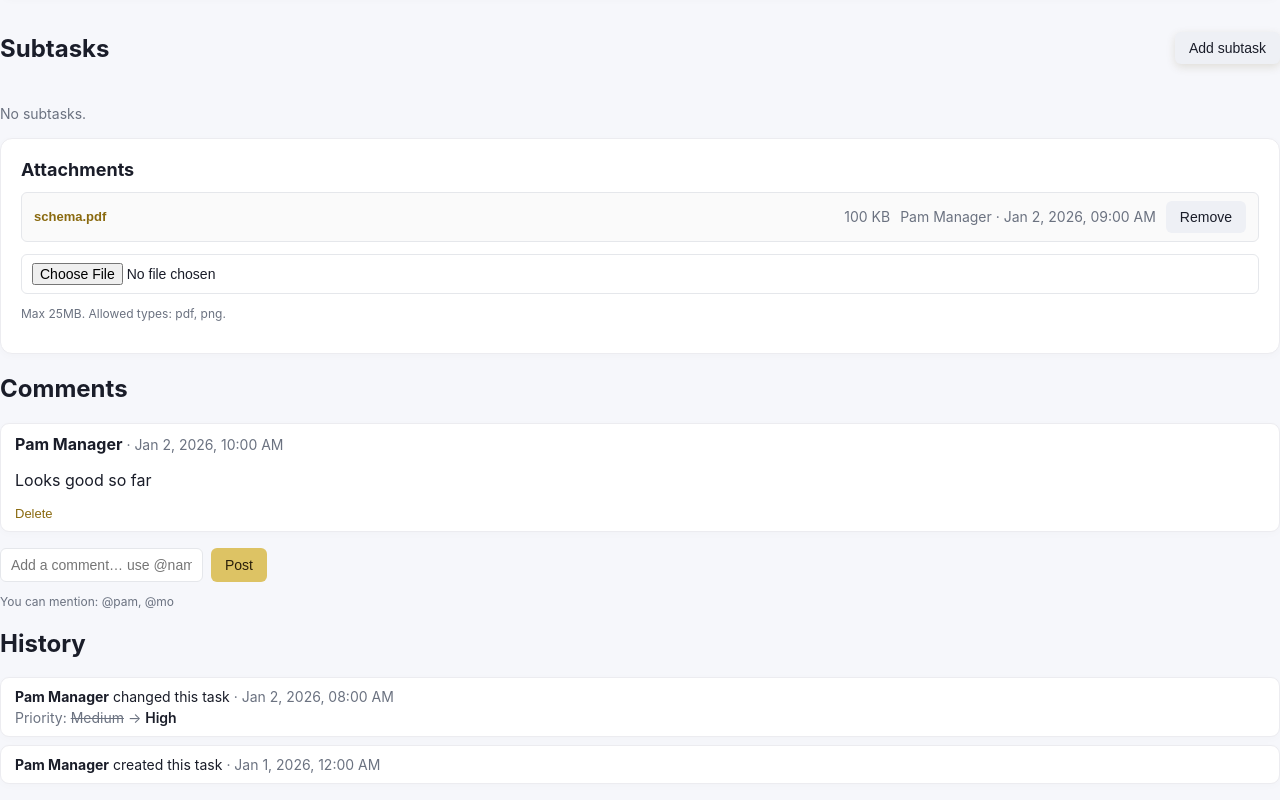
Test case: TaskDetail page › posts a new comment and shows it immediately
This screenshot has width=1280, height=800.
(page scrolled)
Type "New comment here" into the field with placeholder "Add a comment… use @name to mention someone" at (102, 565), box x1=0 y1=548 x2=203 y2=582
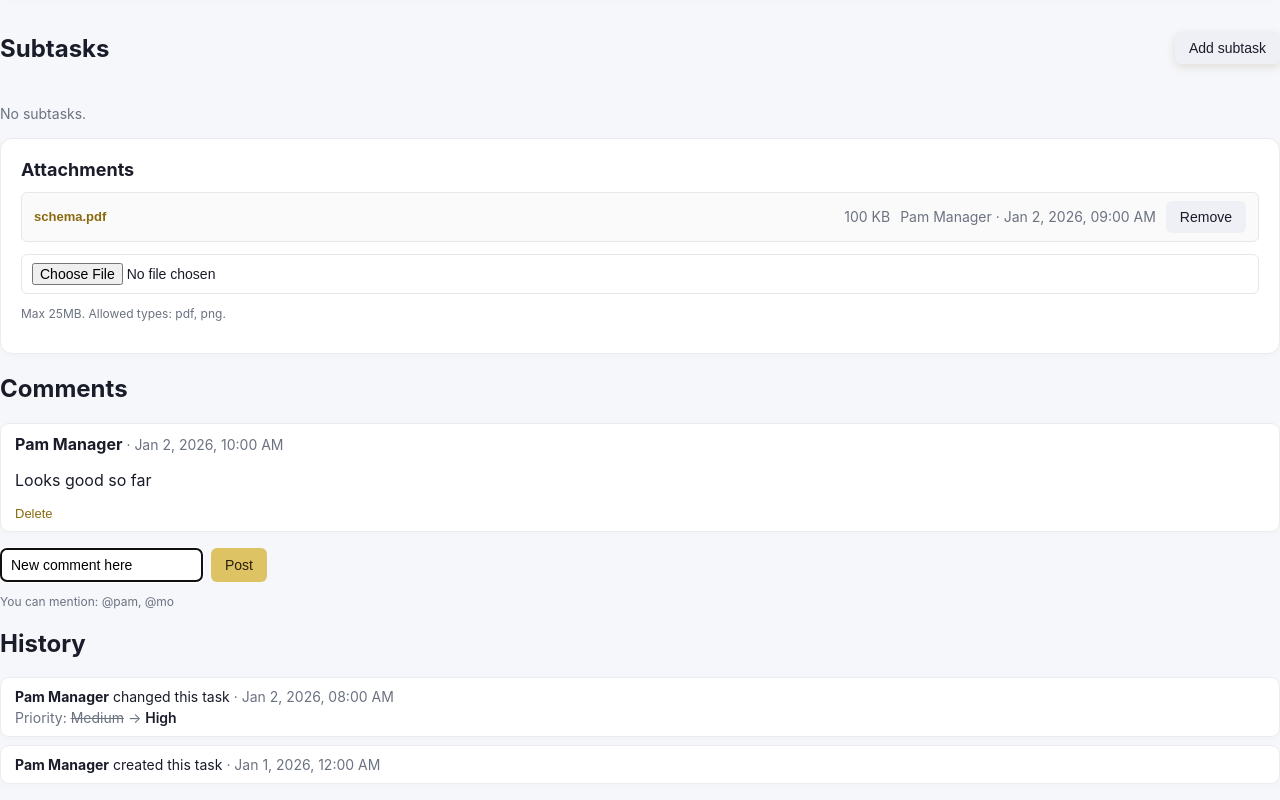
Click the button "Post" at (239, 565), box x1=211 y1=548 x2=267 y2=582
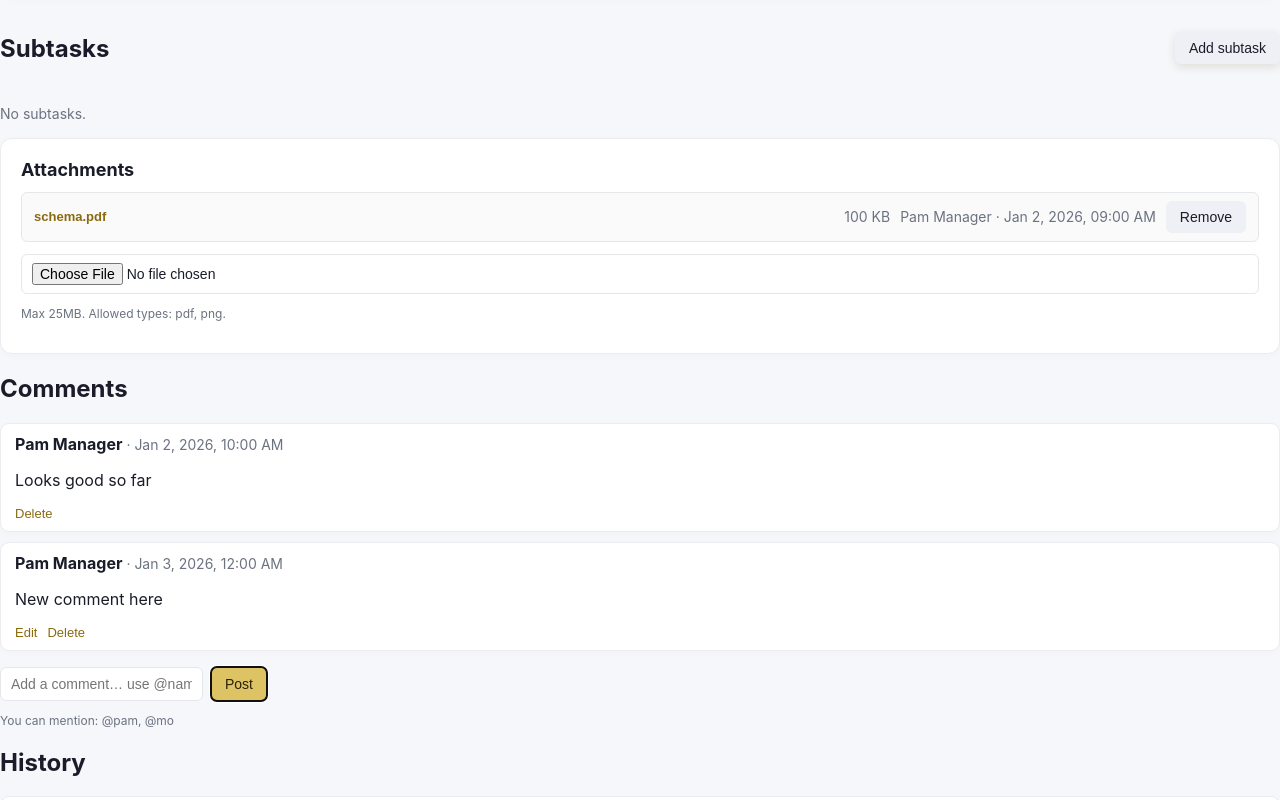
Now the text "New comment here" is shown, box x1=15 y1=589 x2=163 y2=609
